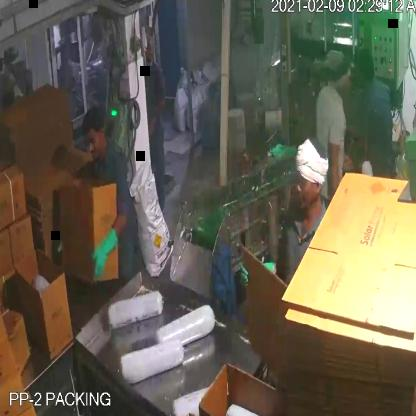glove: (86, 218, 126, 284)
no_glove: (141, 92, 164, 140)
